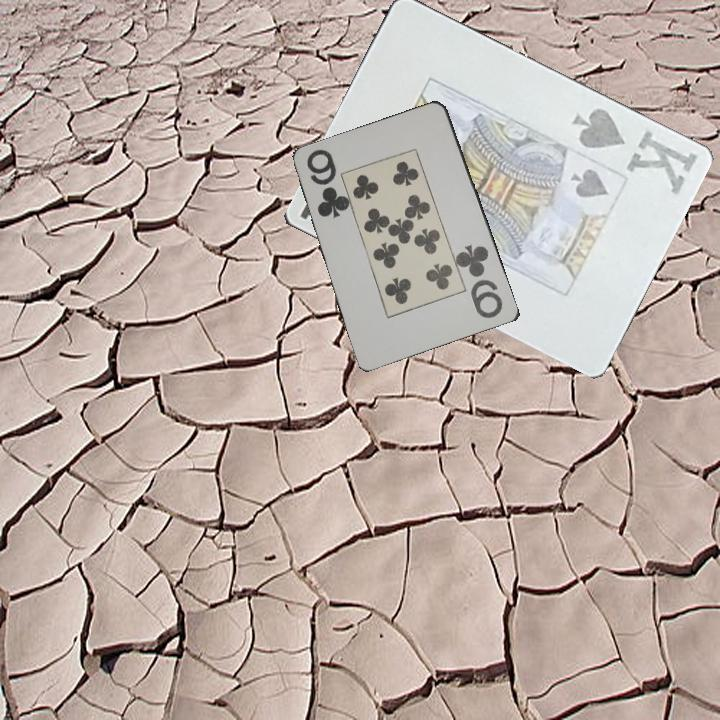9c: (454, 241, 506, 321), (304, 145, 349, 222)
Ks: (568, 104, 700, 198)
